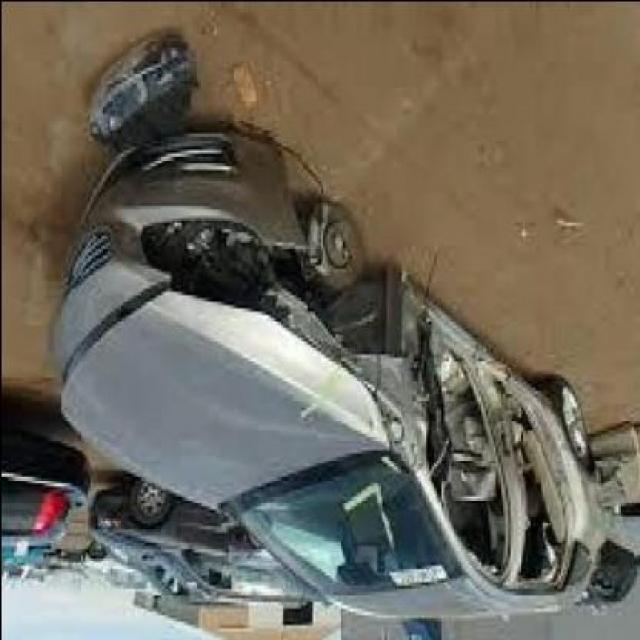damage: (146, 182, 616, 613)
